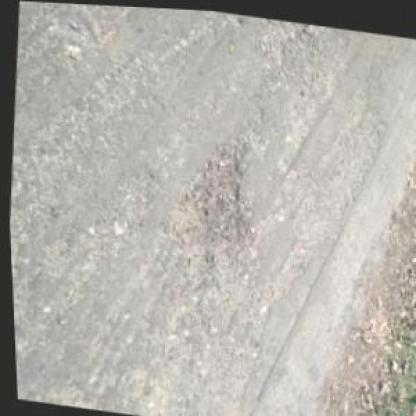pothole: (157, 131, 252, 292)
